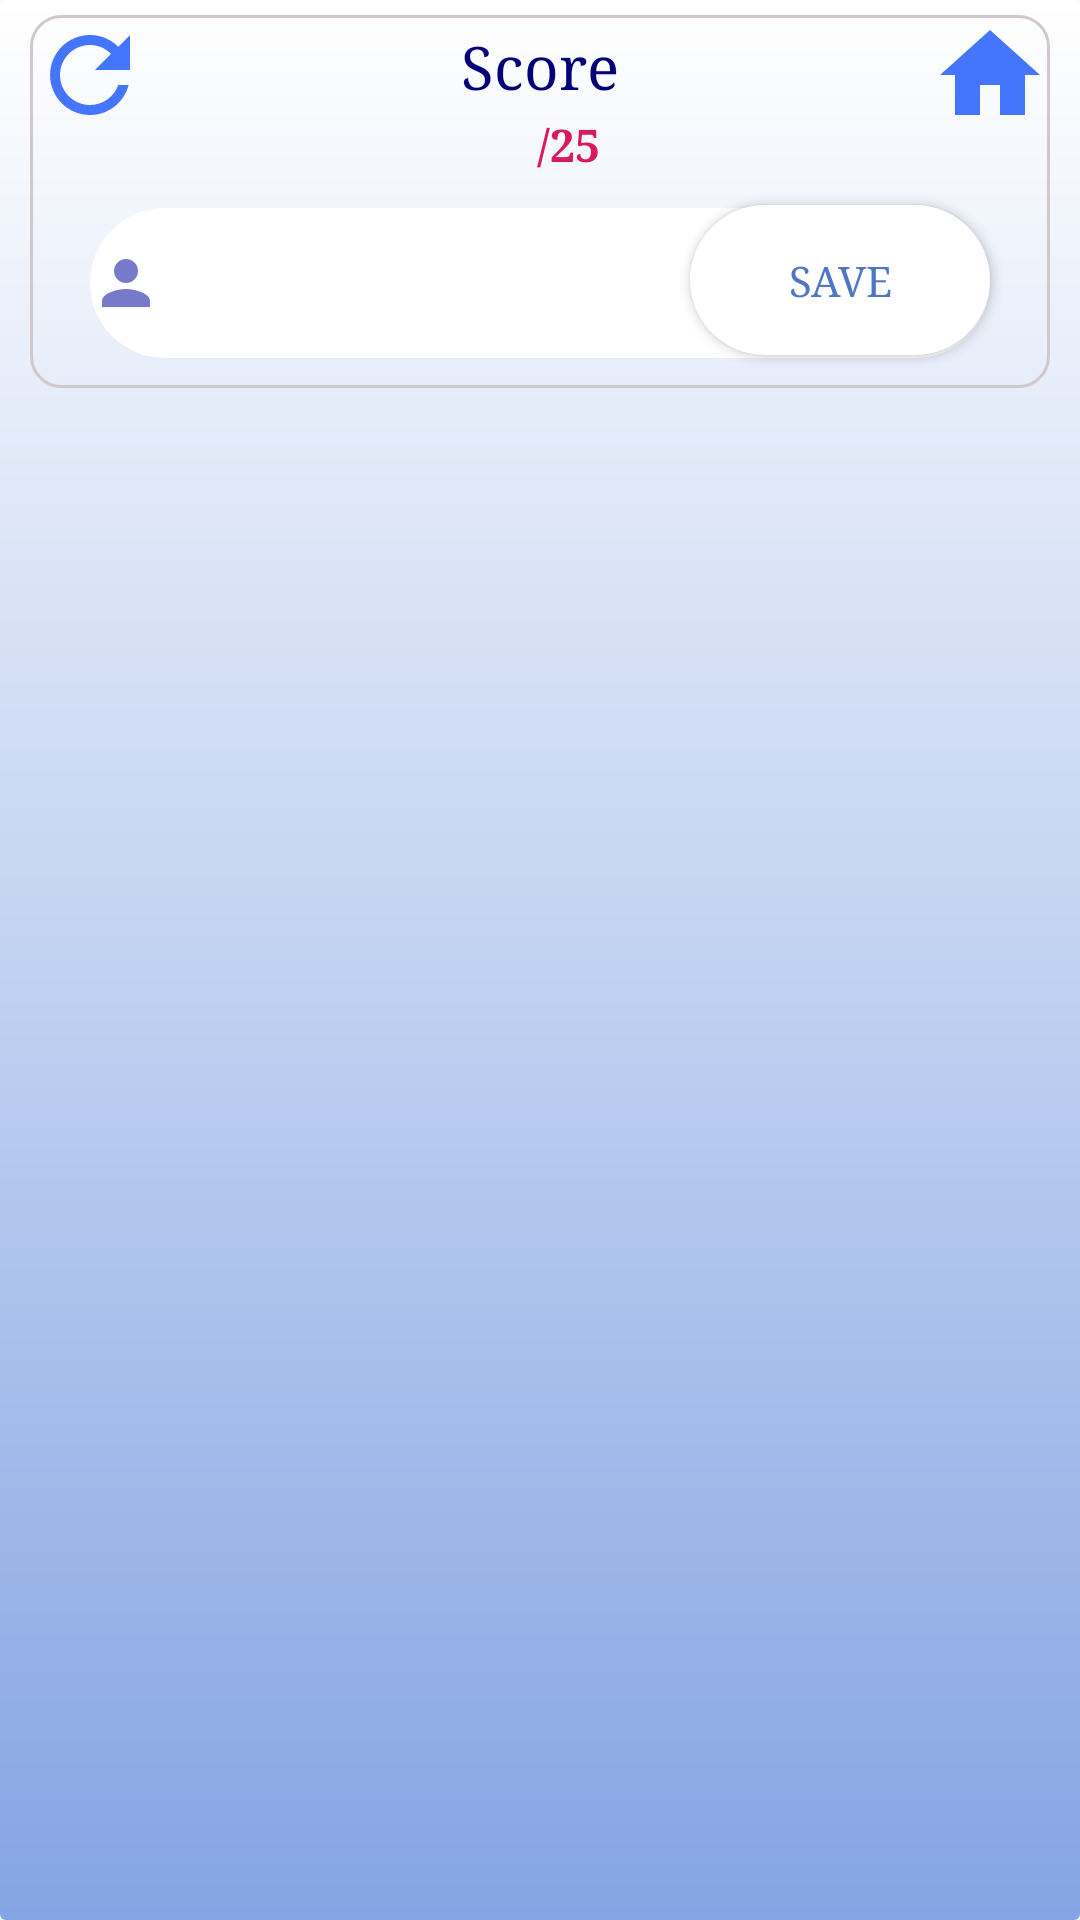

Icon bounding boxes for this 1080 x 1920 phone screenshot, format (x1=x1, y1=y1, x2=x2, y2=y2):
home: (x1=940, y1=30, x2=1040, y2=115)
refresh: (x1=50, y1=35, x2=130, y2=115)
